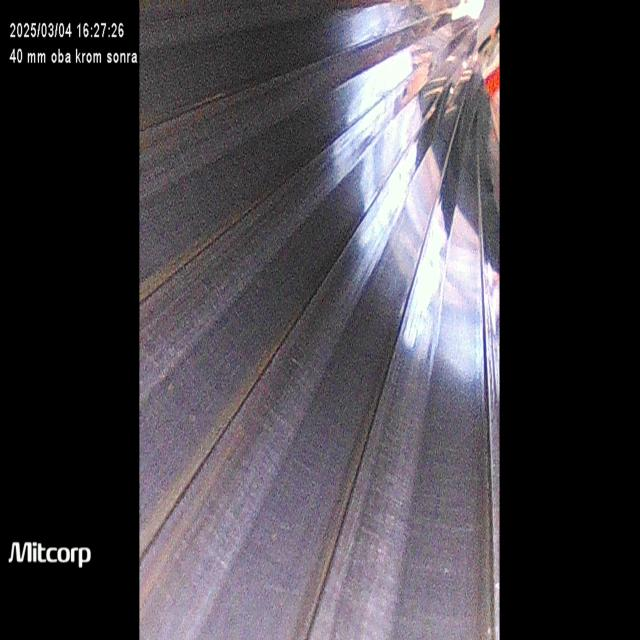hata_4.2: (159, 353, 184, 413), (187, 408, 204, 435)
hata_8.1: (368, 489, 494, 627)
